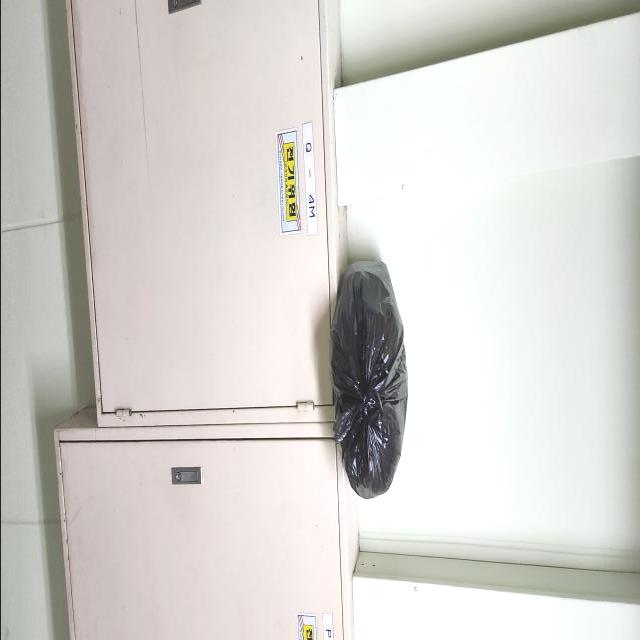black_bag: (330, 258, 408, 501)
